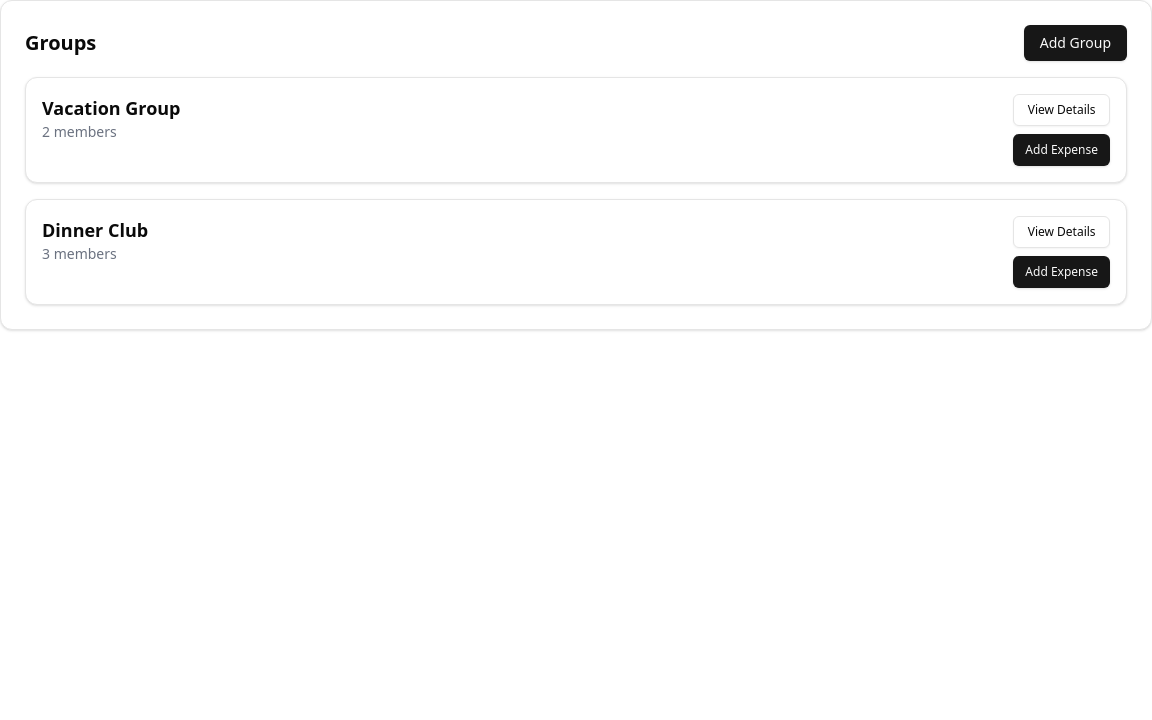
it: GroupList › opens expense dialog when add expense button is clicked
This screenshot has width=1152, height=720.
Click the 1st button "Add Expense".
click(1062, 150)  # box top-left (1013, 134), bottom-right (1110, 166)
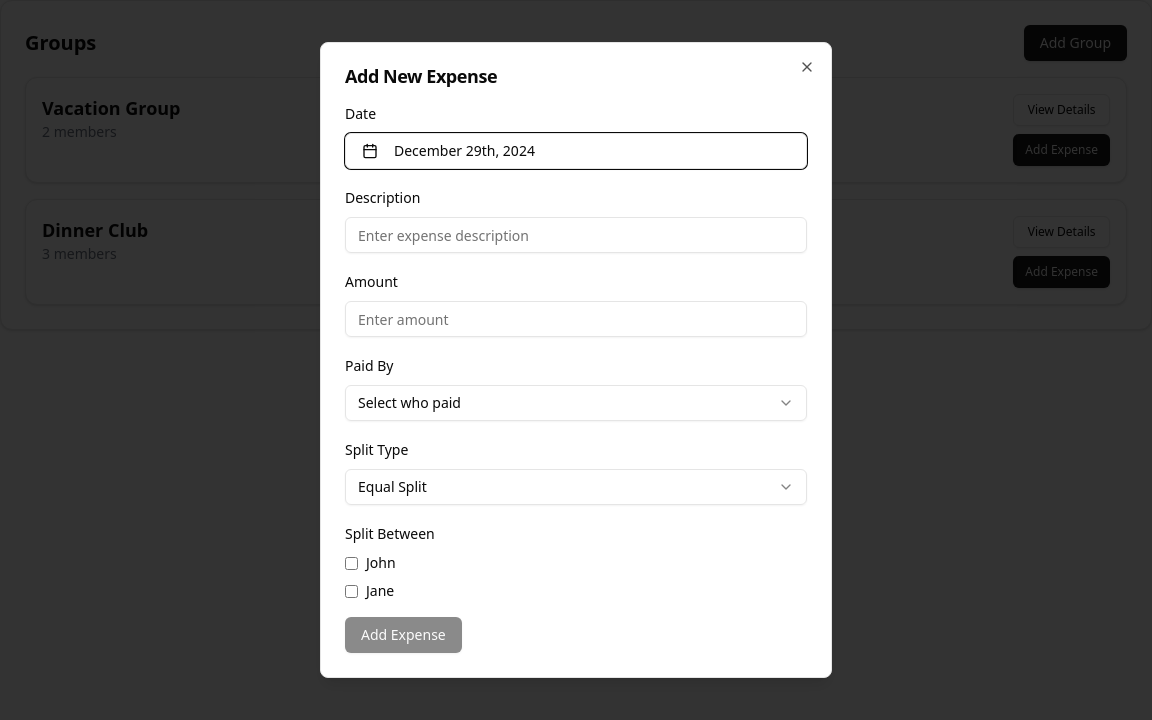
expect the heading "Add New Expense" is shown: met, box top-left (345, 64), bottom-right (497, 88)
expect the field labelled "Description" is shown: met, box top-left (345, 217), bottom-right (807, 253)
expect the number field labelled "Amount" is shown: met, box top-left (345, 301), bottom-right (807, 337)
